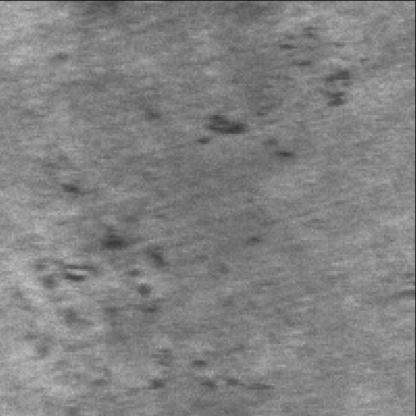rolled-in_scale: (25, 224, 258, 396), (187, 22, 350, 144)
